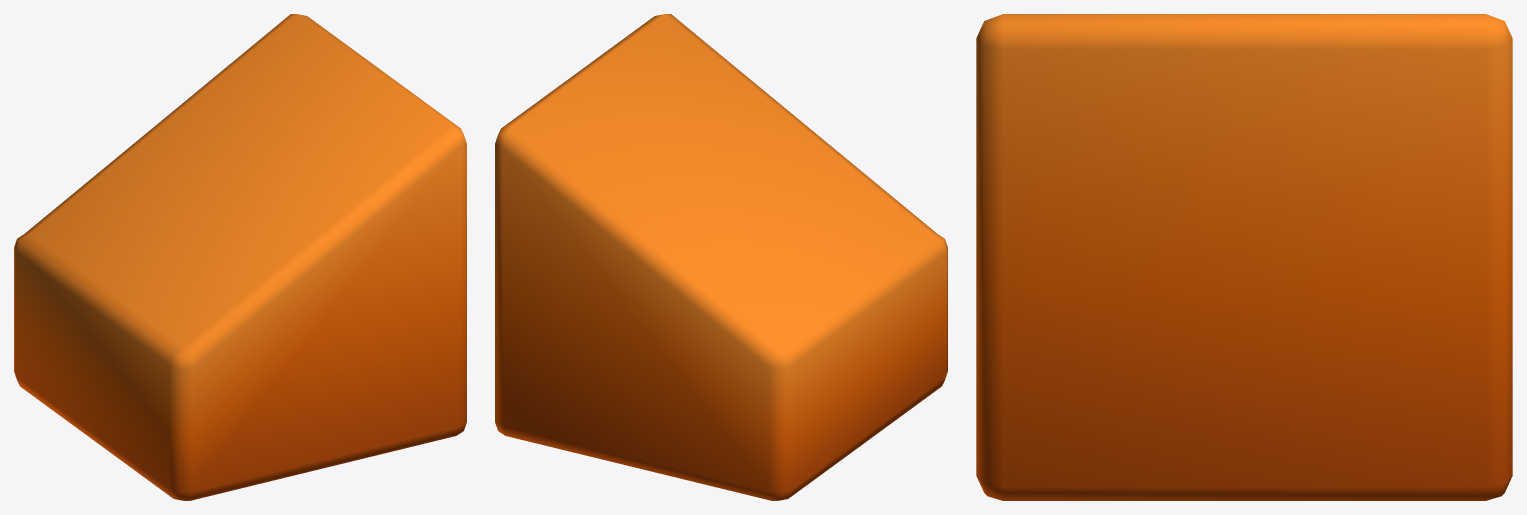
The model's file is 3D_Tile_Ground_Slope_03A.fbx.
3 renders of one model, left to right at view 1: azimuth 30°, elevation 25°; view 2: azimuth 150°, elevation 25°; view 3: azimuth 270°, elevation 25°, orthographic. The views are drawn at different scales.
Parts seen in each view (by area): view 1: 3D_Tile_Ground_Slope_03A; view 2: 3D_Tile_Ground_Slope_03A; view 3: 3D_Tile_Ground_Slope_03A.
Boxes of the visible parts, x1=… form: 3D_Tile_Ground_Slope_03A: x1=14, y1=14, x2=466, y2=500; 3D_Tile_Ground_Slope_03A: x1=495, y1=14, x2=947, y2=500; 3D_Tile_Ground_Slope_03A: x1=976, y1=14, x2=1512, y2=500.
Bounding box in the file's own units: 200 × 200 × 200.
